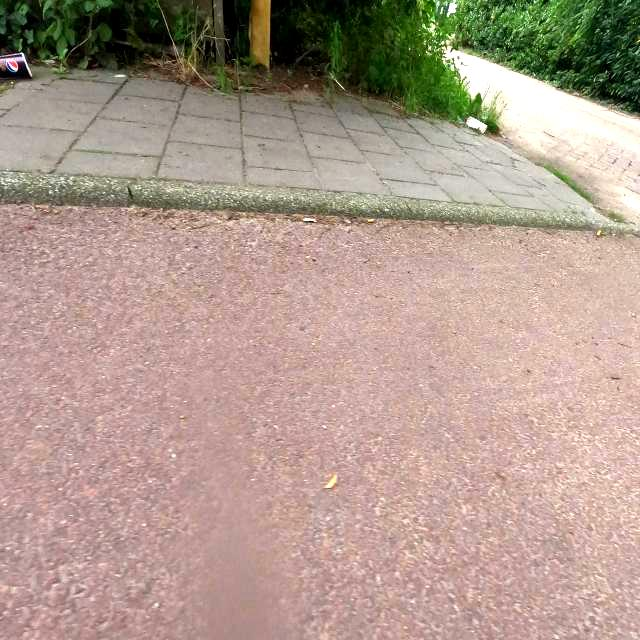Coffee Cup: (0, 51, 32, 79), (465, 115, 487, 134)
